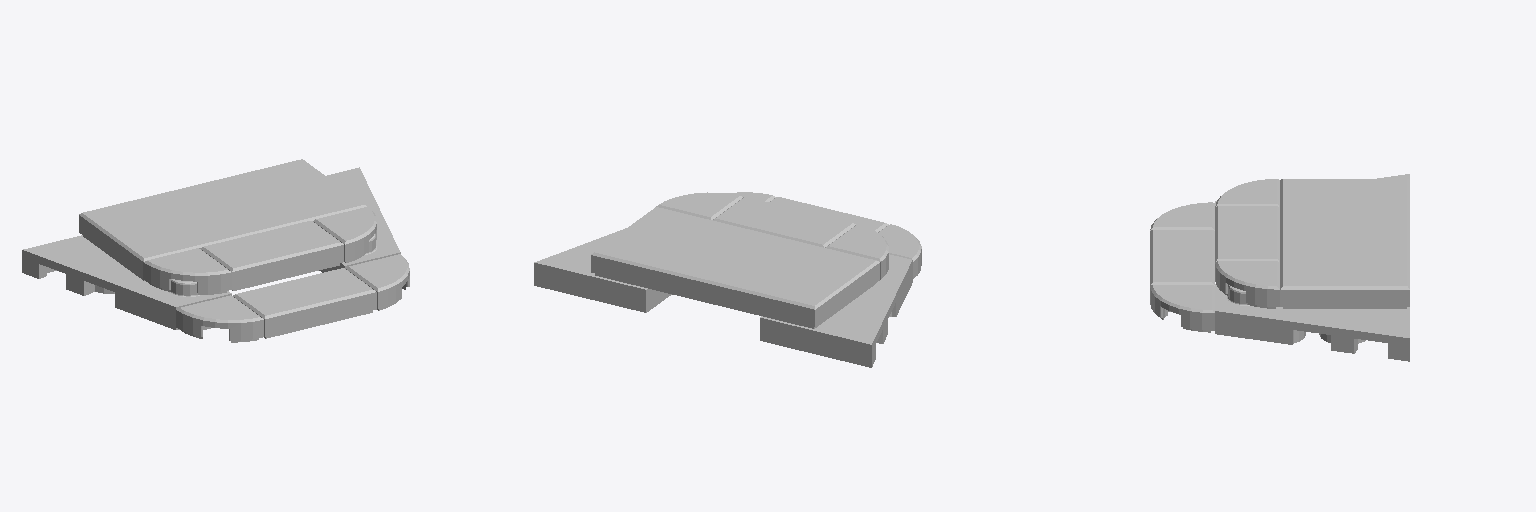
Rendered from motorhaube_rot.obj.
The picture shows the model from 3 angles: view 1: azimuth 30°, elevation 25°; view 2: azimuth 150°, elevation 25°; view 3: azimuth 270°, elevation 25°; orthographic projection.
Visible parts, largest first — view 1: Part.135, Part.117, Part.68, Part.69, Part.28, Part.30, Part.118, Part.27, Part.29; view 2: Part.135, Part.117, Part.118, Part.69, Part.30, Part.29, Part.28, Part.68; view 3: Part.135, Part.118, Part.68, Part.69, Part.27, Part.29, Part.28, Part.30.
Boxes of the visible parts, <box> form: Part.135: <box>79,159,366,280</box>; Part.117: <box>22,235,231,329</box>; Part.68: <box>233,268,376,338</box>; Part.69: <box>200,221,343,290</box>; Part.28: <box>176,295,263,342</box>; Part.30: <box>143,248,231,294</box>; Part.118: <box>319,167,400,272</box>; Part.27: <box>345,254,409,310</box>; Part.29: <box>313,207,376,262</box>; Part.135: <box>591,207,879,328</box>; Part.117: <box>760,254,912,367</box>; Part.118: <box>534,228,671,312</box>; Part.69: <box>713,197,855,247</box>; Part.30: <box>826,224,888,280</box>; Part.29: <box>656,192,743,219</box>; Part.28: <box>879,224,921,278</box>; Part.68: <box>769,197,888,232</box>; Part.135: <box>1280,179,1409,308</box>; Part.118: <box>1215,284,1409,361</box>; Part.68: <box>1150,230,1214,285</box>; Part.69: <box>1215,206,1279,261</box>; Part.27: <box>1150,285,1214,332</box>; Part.29: <box>1215,261,1279,308</box>; Part.28: <box>1150,202,1214,230</box>; Part.30: <box>1215,179,1279,206</box>.
Bounding box in the file's own units: 47.92 × 6.36 × 31.96.